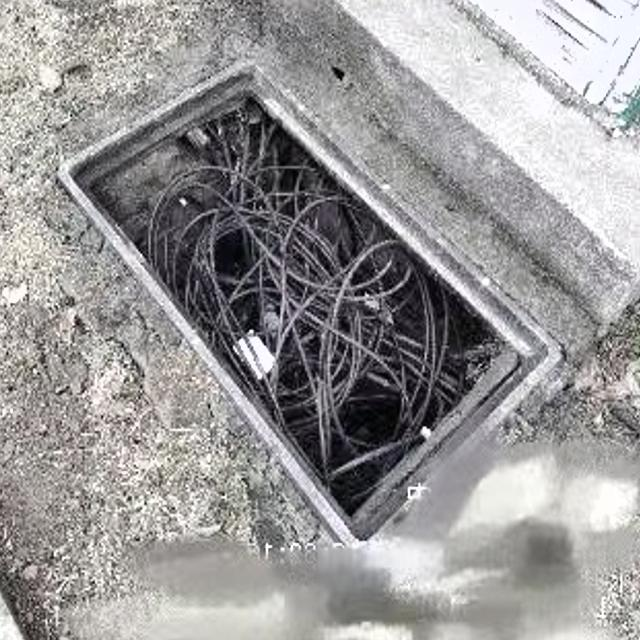lose: (54, 78, 569, 433)
